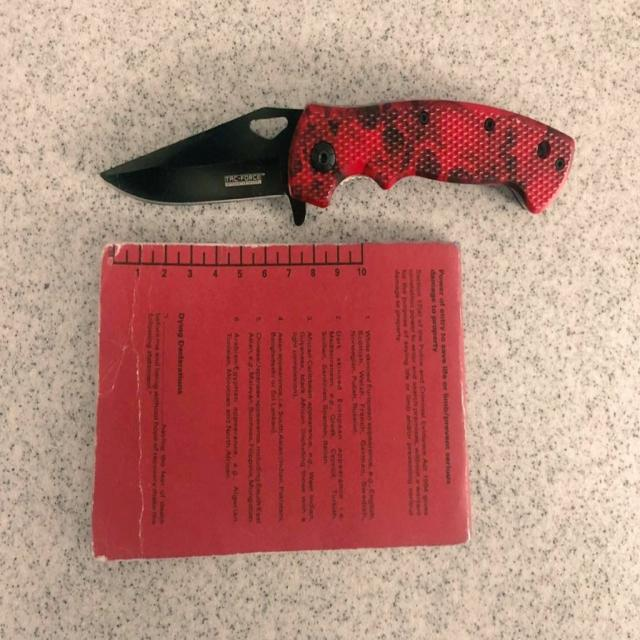Sharp-Object: (104, 100, 576, 226)
